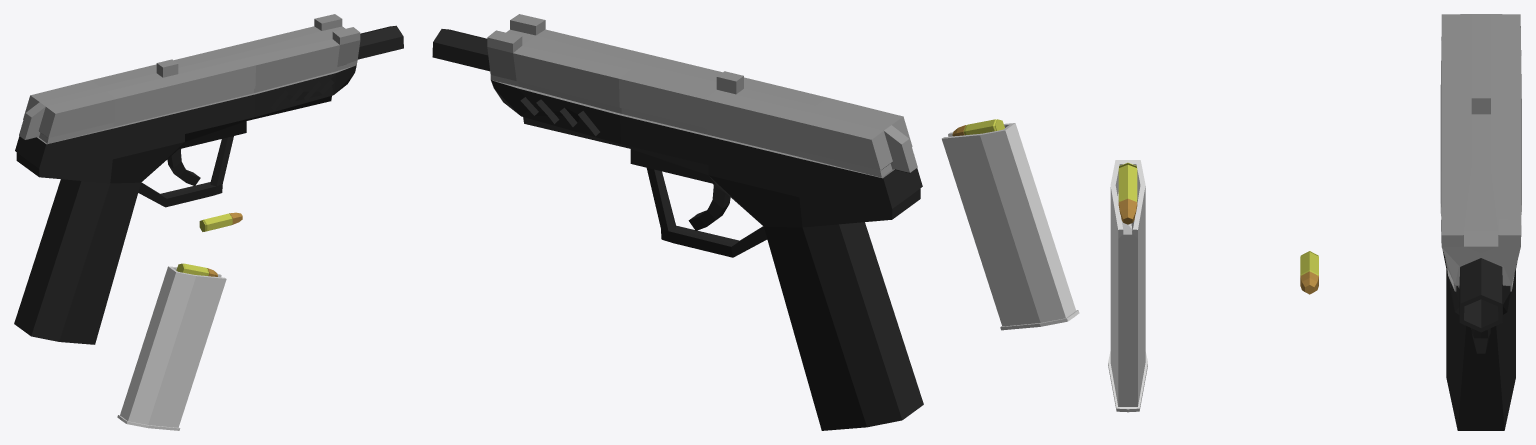
Rendered from Pistol.fbx.
3 renders of one model, left to right at view 1: azimuth 30°, elevation 25°; view 2: azimuth 150°, elevation 25°; view 3: azimuth 270°, elevation 25°, orthographic. The views are drawn at different scales.
Parts seen in each view (by area): view 1: Pistol_Holder, Pistol_Barrel, Pistol_Mag_Ammo, Pistol_Bullet; view 2: Pistol_Holder, Pistol_Barrel, Pistol_Mag_Ammo; view 3: Pistol_Barrel, Pistol_Holder, Pistol_Mag_Ammo, Pistol_Bullet.
Part boxes in pixels (box(x1,y1,x2,y2)): Pistol_Holder: box(14, 25, 403, 344); Pistol_Barrel: box(19, 14, 360, 144); Pistol_Mag_Ammo: box(117, 263, 226, 430); Pistol_Bullet: box(199, 212, 242, 231); Pistol_Holder: box(432, 29, 923, 430); Pistol_Barrel: box(487, 14, 917, 178); Pistol_Mag_Ammo: box(942, 119, 1079, 330); Pistol_Barrel: box(1440, 14, 1521, 291); Pistol_Holder: box(1443, 252, 1516, 430); Pistol_Mag_Ammo: box(1108, 160, 1147, 412); Pistol_Bullet: box(1300, 251, 1318, 294).
Bounding box in the file's own units: 39.15 × 24.7 × 23.16.
